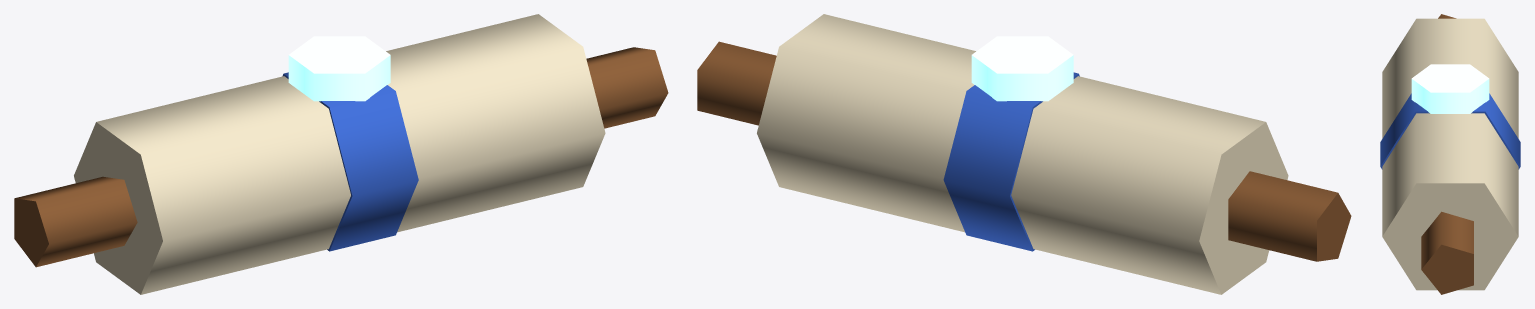
File: drop_scroll.glb
3 renders of one model, left to right at view 1: azimuth 30°, elevation 25°; view 2: azimuth 150°, elevation 25°; view 3: azimuth 270°, elevation 25°, orthographic. The views are drawn at different scales.
Parts seen in each view (by area): view 1: item_scrollPaper, item_rod, item_ribbon, item_sealIdentify; view 2: item_scrollPaper, item_rod, item_ribbon, item_sealIdentify; view 3: item_scrollPaper, item_rod, item_sealIdentify, item_ribbon.
Part boxes in pixels (x1,y1,x2,y2): item_scrollPaper: (74, 14, 605, 294); item_rod: (14, 47, 668, 267); item_ribbon: (282, 72, 418, 251); item_sealIdentify: (288, 36, 390, 101); item_scrollPaper: (757, 14, 1288, 294); item_rod: (697, 41, 1351, 261); item_ribbon: (943, 72, 1079, 251); item_sealIdentify: (971, 36, 1073, 101); item_scrollPaper: (1382, 18, 1518, 290); item_rod: (1421, 14, 1473, 294); item_sealIdentify: (1411, 64, 1489, 113); item_ribbon: (1380, 93, 1520, 169).
Size of the model in its own units: 0.364 by 0.0964 by 0.0936.
